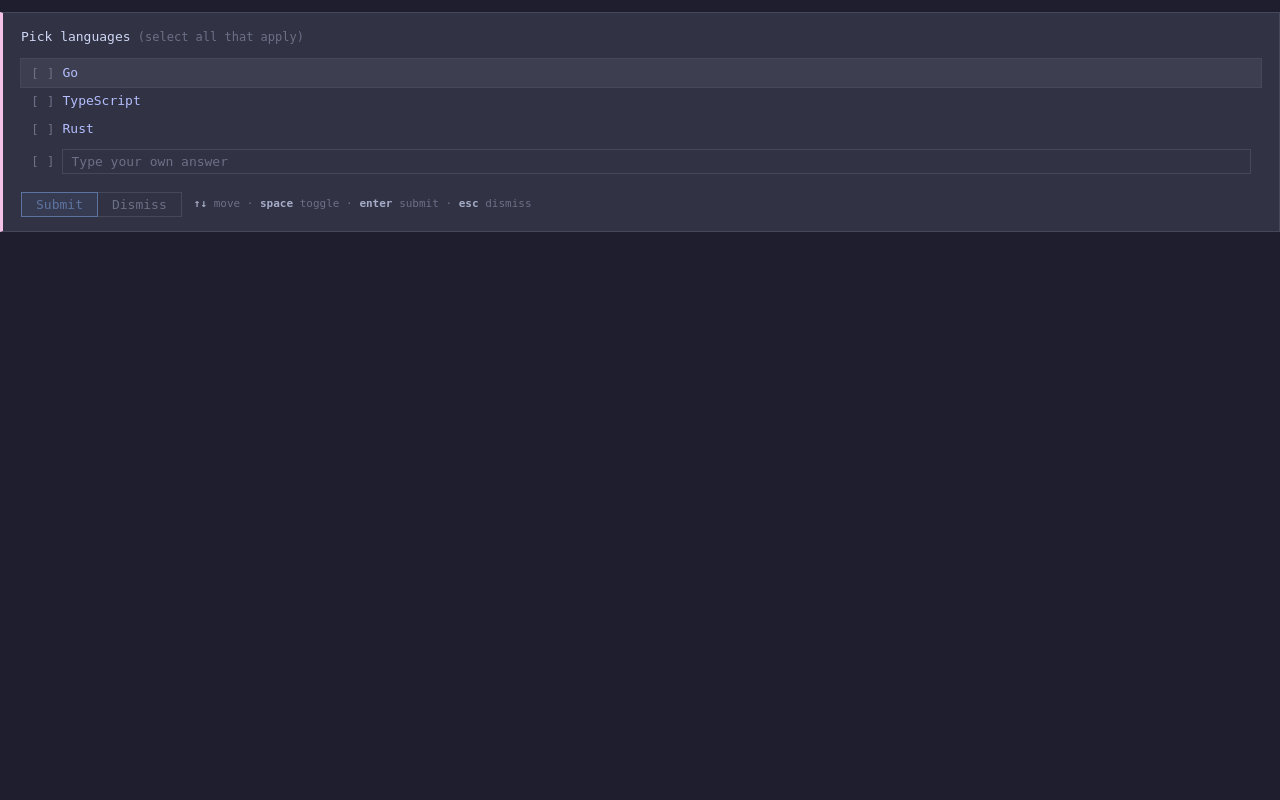
QuestionPrompt › multiple-choice questions › keeps Submit disabled until at least one option is selected
Expected: the button "Submit" is disabled, x1=21 y1=192 x2=98 y2=216
Click the checkbox labelled "[ ] Go" at x=43, y=73, box x1=21 y1=58 x2=1261 y2=86
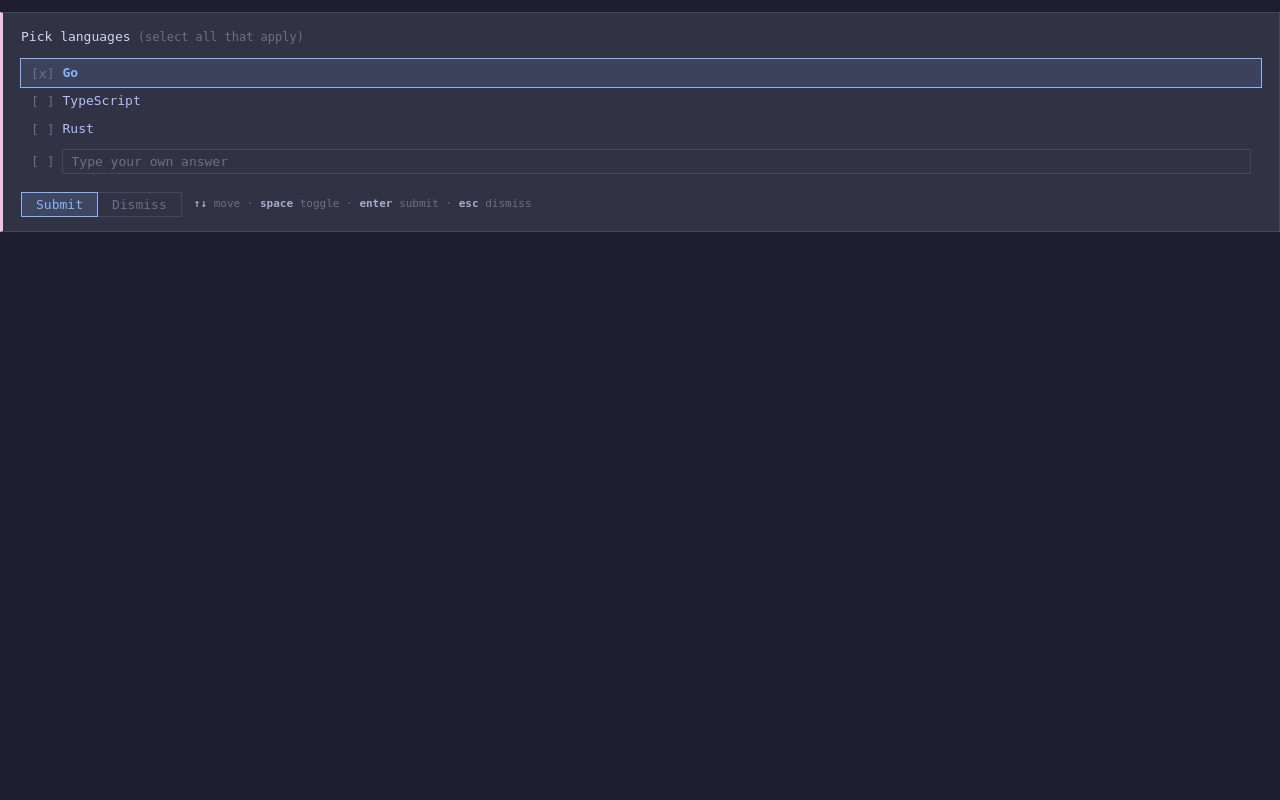
Now the button "Submit" is enabled, box x1=21 y1=192 x2=98 y2=216
